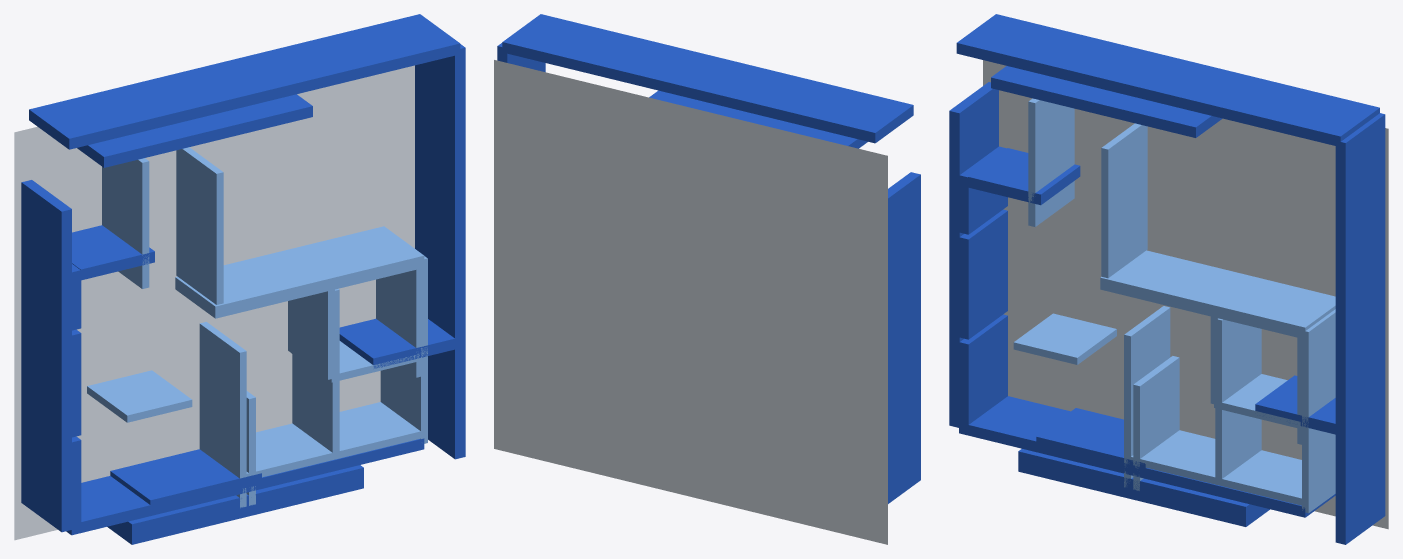
Rendered from 4672e55c-bdc2-4ae5-a2b6-84c8489d534e.obj.
3 views of the same model, side by side, from view 1: azimuth 30°, elevation 25°; view 2: azimuth 150°, elevation 25°; view 3: azimuth 330°, elevation 25° (orthographic). The views are drawn at different scales.
Bounding box in the file's own units: 17.8 × 17.62 × 3.05.
